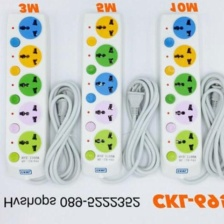three_eye_plug: (2, 11, 50, 182), (156, 10, 204, 180), (78, 9, 123, 179)
